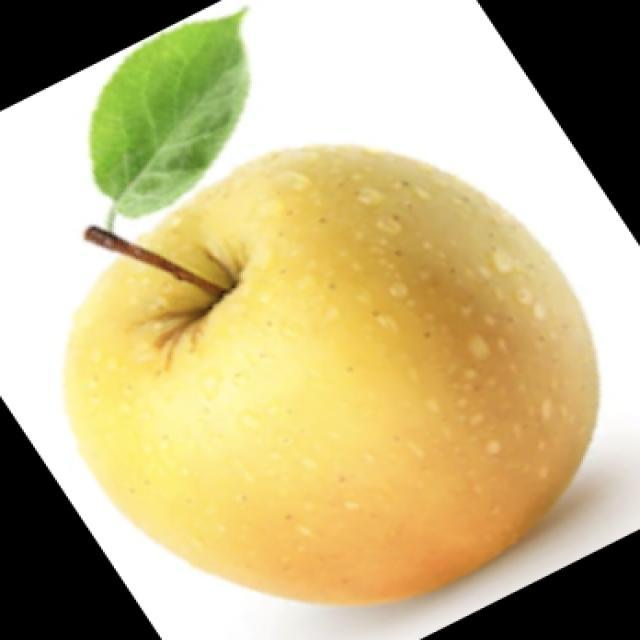Fresh Apple: (80, 152, 587, 585)
